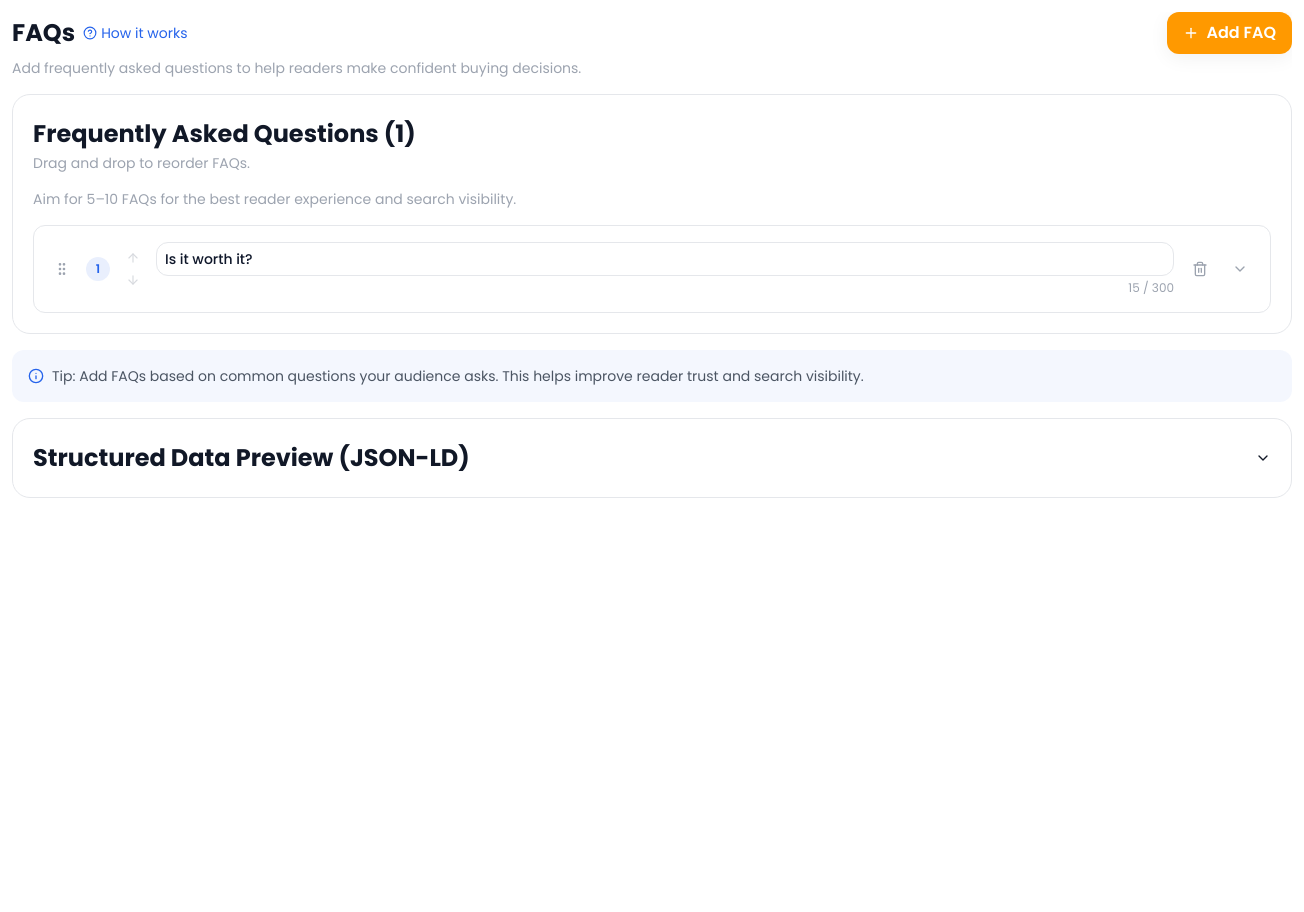
BuyingGuideFaqsStep › shows a structured data preview that updates with FAQ content
This screenshot has width=1304, height=912.
What coordinates should you click on to do the following:
click the button "Structured Data Preview (JSON-LD)"
I would click on:
 (251, 457)
Its box is [33,439,1271,477].
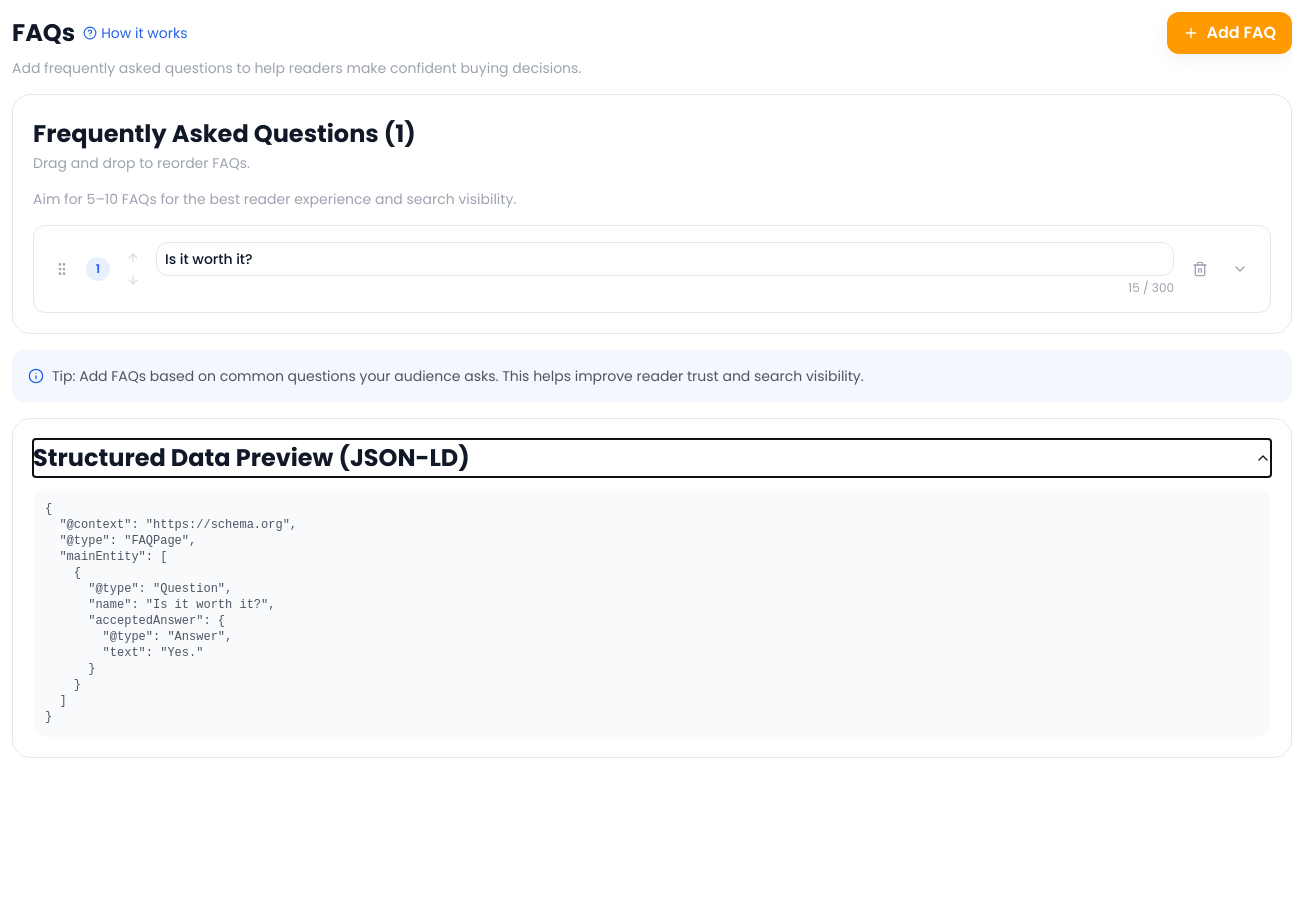
Check: the button "\"Is it worth it?\"" is shown, box [45,502,297,724]
